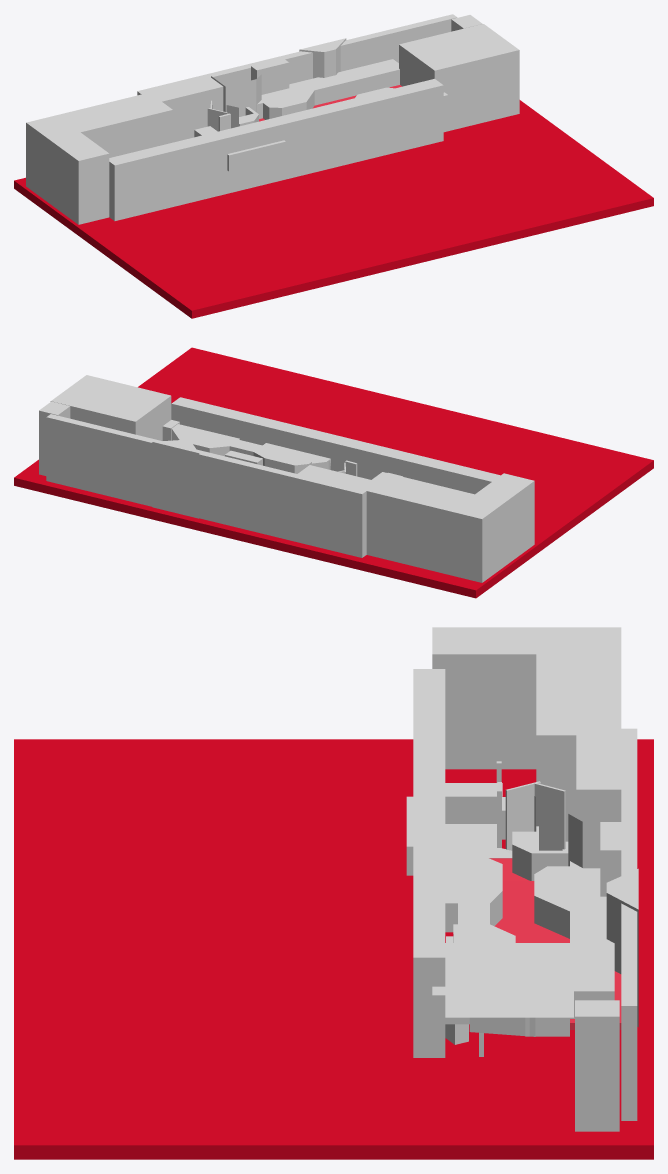
File: school_forum.hitboxes.glb
3 views of the same model, one above another, from view 1: azimuth 30°, elevation 25°; view 2: azimuth 150°, elevation 25°; view 3: azimuth 270°, elevation 25° (orthographic). The views are drawn at different scales.
Visible parts, largest first — view 1: Hitbox_floor_invisible, Hitbox_WallFront_invisible, HitboxWallC_invisible.001, HitboxWallBack_invisible.001, HitboxWallB_invisible.001, HitboxWallBack_invisible, HitboxWallBack_invisible.002, HitboxUpper_Balustrade_invisible.004, HitboxUpper_Balustrrade_fullhitbox_invisible.002, HitboxUpper_Balustrrade_invisible.004, Hitbox_WallBack_Entrance_fullhitbox_invisible.002, Hitbox_WallBack_Entrance_invisible.001 (+1 smaller); view 2: Hitbox_floor_invisible, HitboxWallBack_invisible, HitboxWallBack_invisible.001, Hitbox_WallFront_invisible, HitboxWallC_invisible.001, HitboxJanitor_invisible_fullhitbox, HitboxWallB_invisible.001, HitboxUpper_Balustrrade_fullhitbox_invisible.001, HitboxUpper_Balustrrade_fullhitbox_invisible.003, HitboxWallC_invisible.002, HitboxWallBack_invisible.002; view 3: Hitbox_floor_invisible, HitboxWallB_invisible.001, Hitbox_WallFront_invisible, HitboxWallBack_invisible.001, HitboxWallC_invisible.001, HitboxWallBack_invisible, HitboxWallC_invisible.002, HitboxWallBack_invisible.002, HitboxUpper_Balustrrade_fullhitbox_invisible.002, HitboxUpper_Balustrade_invisible.004, HitboxUpper_Balustrrade_fullhitbox_invisible.001, HitboxUpper_Floor_invisible.001 (+12 smaller).
Boxes of the visible parts, <box> form: Hitbox_floor_invisible: <box>14,100,653,318</box>; Hitbox_WallFront_invisible: <box>109,78,443,220</box>; HitboxWallC_invisible.001: <box>399,24,519,132</box>; HitboxWallBack_invisible.001: <box>26,92,172,203</box>; HitboxWallB_invisible.001: <box>49,132,109,224</box>; HitboxWallBack_invisible: <box>137,14,457,95</box>; HitboxWallBack_invisible.002: <box>149,77,223,142</box>; HitboxUpper_Balustrade_invisible.004: <box>302,59,399,105</box>; HitboxUpper_Balustrrade_fullhitbox_invisible.002: <box>261,81,314,119</box>; HitboxUpper_Balustrrade_invisible.004: <box>227,140,285,171</box>; Hitbox_WallBack_Entrance_fullhitbox_invisible.002: <box>211,74,261,116</box>; Hitbox_WallBack_Entrance_invisible.001: <box>251,58,289,94</box>; Hitbox_floor_invisible: <box>14,347,653,598</box>; HitboxWallBack_invisible: <box>46,414,366,557</box>; HitboxWallBack_invisible.001: <box>359,472,505,582</box>; Hitbox_WallFront_invisible: <box>171,397,500,494</box>; HitboxWallC_invisible.001: <box>50,375,171,440</box>; HitboxJanitor_invisible_fullhitbox: <box>152,440,199,518</box>; HitboxWallB_invisible.001: <box>475,473,534,565</box>; HitboxUpper_Balustrrade_fullhitbox_invisible.001: <box>253,443,330,473</box>; HitboxUpper_Balustrrade_fullhitbox_invisible.003: <box>171,424,239,456</box>; HitboxWallC_invisible.002: <box>39,401,70,475</box>; HitboxWallBack_invisible.002: <box>298,465,370,488</box>; Hitbox_floor_invisible: <box>14,739,653,1159</box>; HitboxWallB_invisible.001: <box>432,627,536,769</box>; Hitbox_WallFront_invisible: <box>413,669,445,1057</box>; HitboxWallBack_invisible.001: <box>536,627,621,841</box>; HitboxWallC_invisible.001: <box>445,943,573,1017</box>; HitboxWallBack_invisible: <box>621,728,637,1120</box>; HitboxWallC_invisible.002: <box>575,1000,619,1131</box>; HitboxWallBack_invisible.002: <box>576,735,621,821</box>; HitboxUpper_Balustrrade_fullhitbox_invisible.002: <box>534,866,606,938</box>; HitboxUpper_Balustrade_invisible.004: <box>570,911,614,1018</box>; HitboxUpper_Balustrrade_fullhitbox_invisible.001: <box>445,846,502,932</box>; HitboxUpper_Floor_invisible.001: <box>494,881,621,1029</box>.
Size of the model in its own units: 60 by 9.2 by 40.
